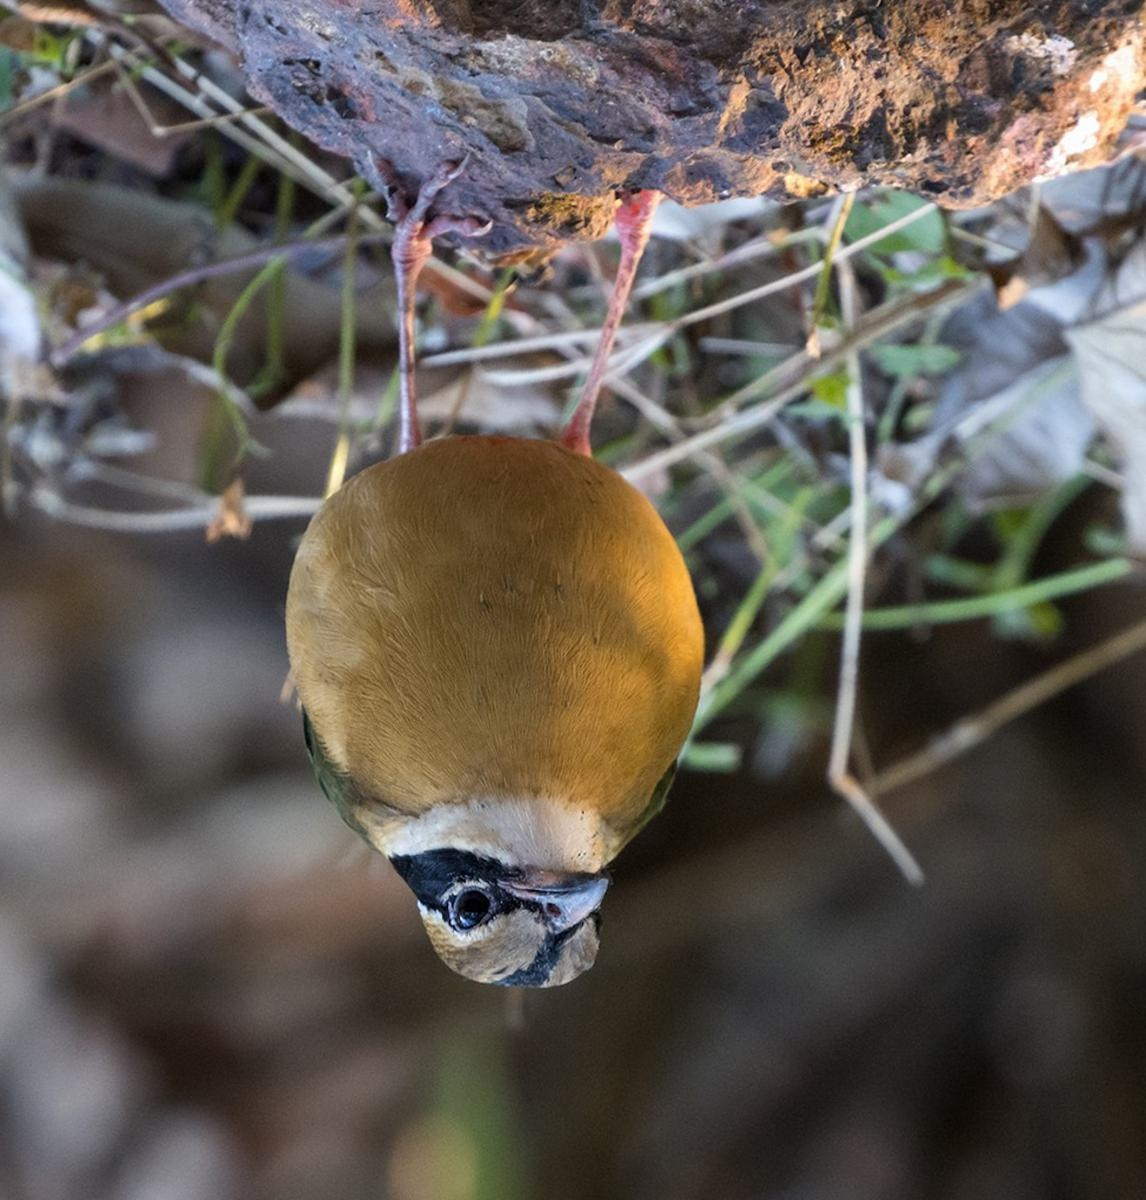pitta: (263, 250, 770, 1015)
